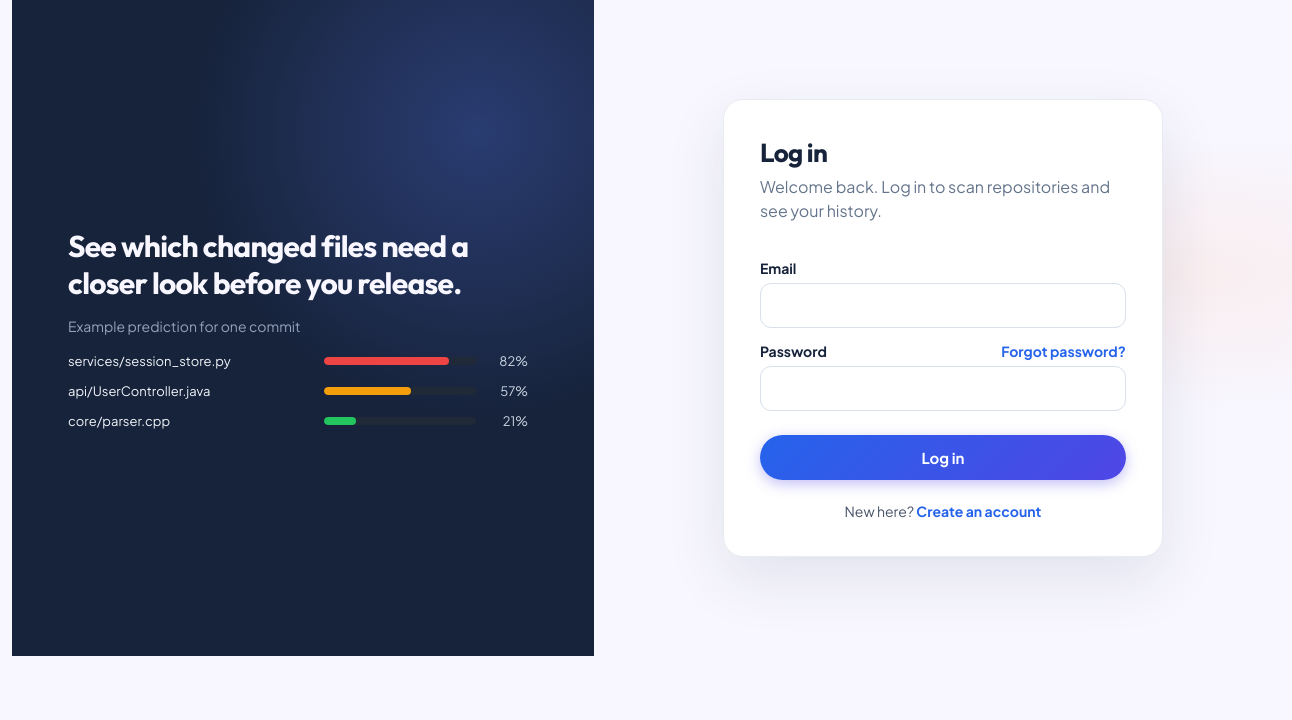
Test: authentication pages › logs in, stores the session, and opens the scanner
In the field labelled "Email": (943, 306) [760,283,1126,328], type "tester@example.com"
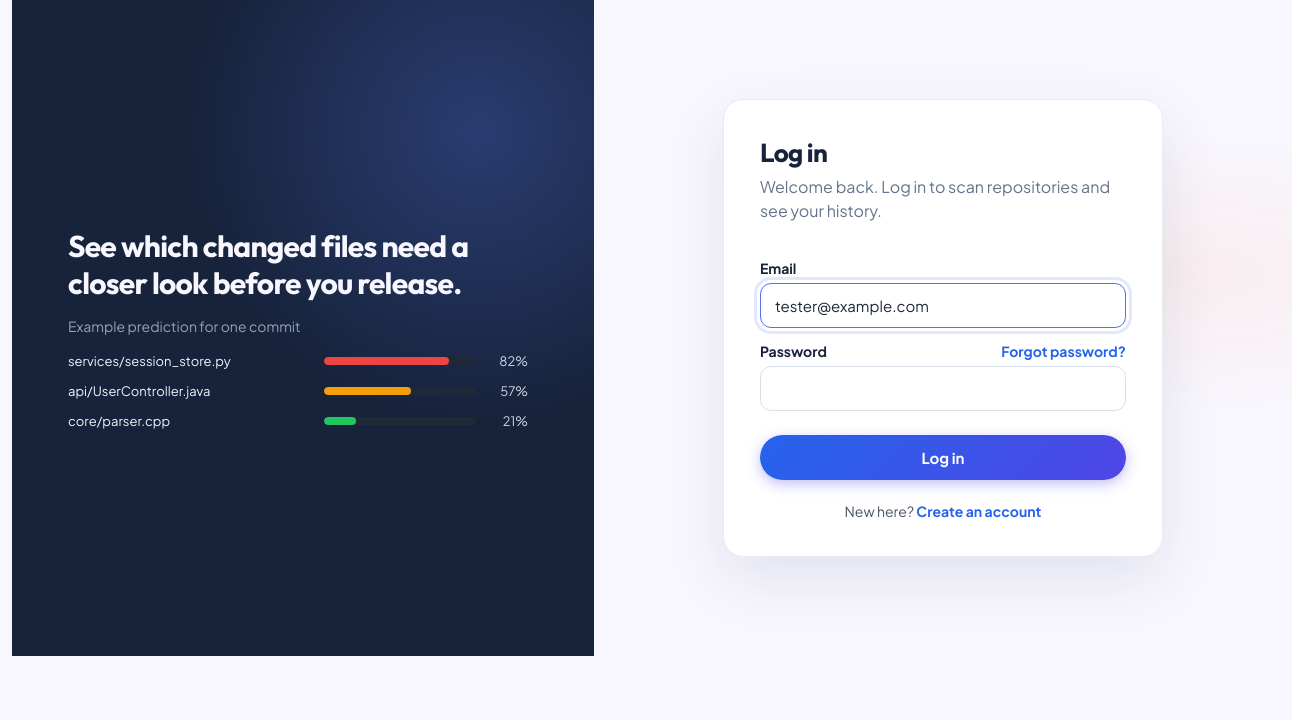
In the password field labelled "Password": (943, 388) [760,366,1126,411], type "Test-pass-123"
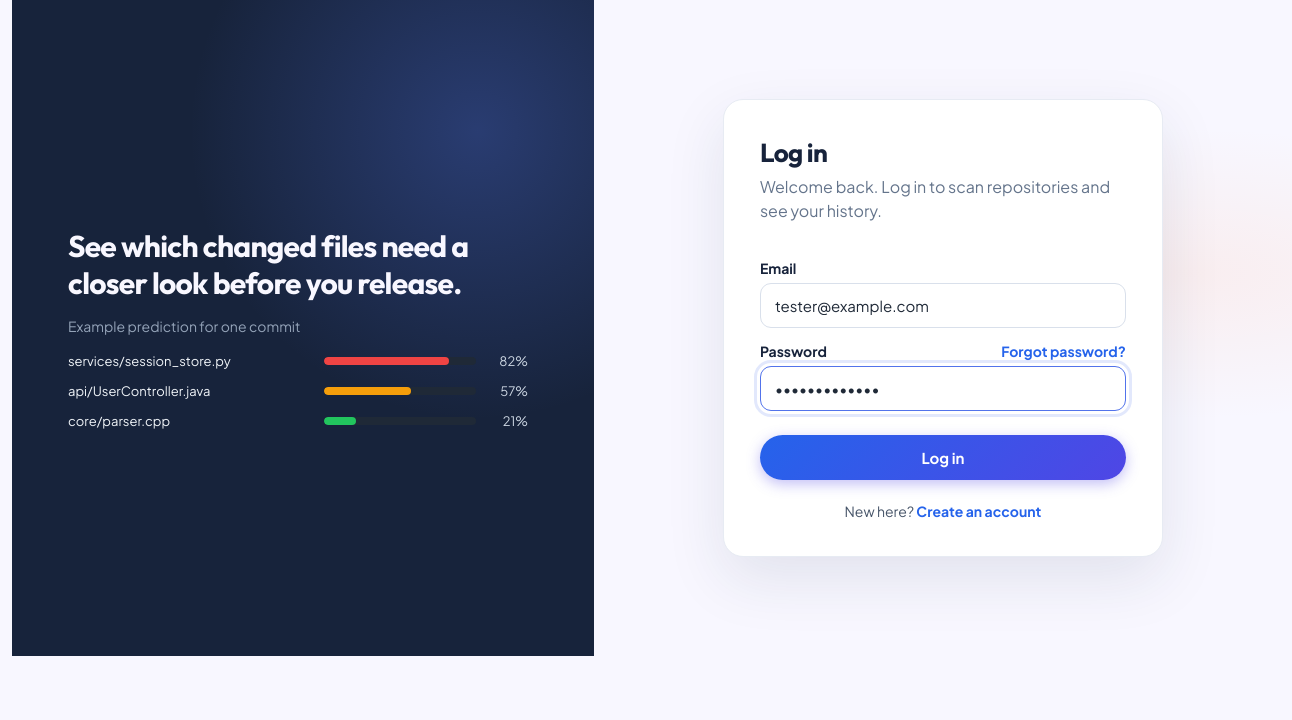
Click the button "Log in": click(943, 458) [760,435,1126,480]
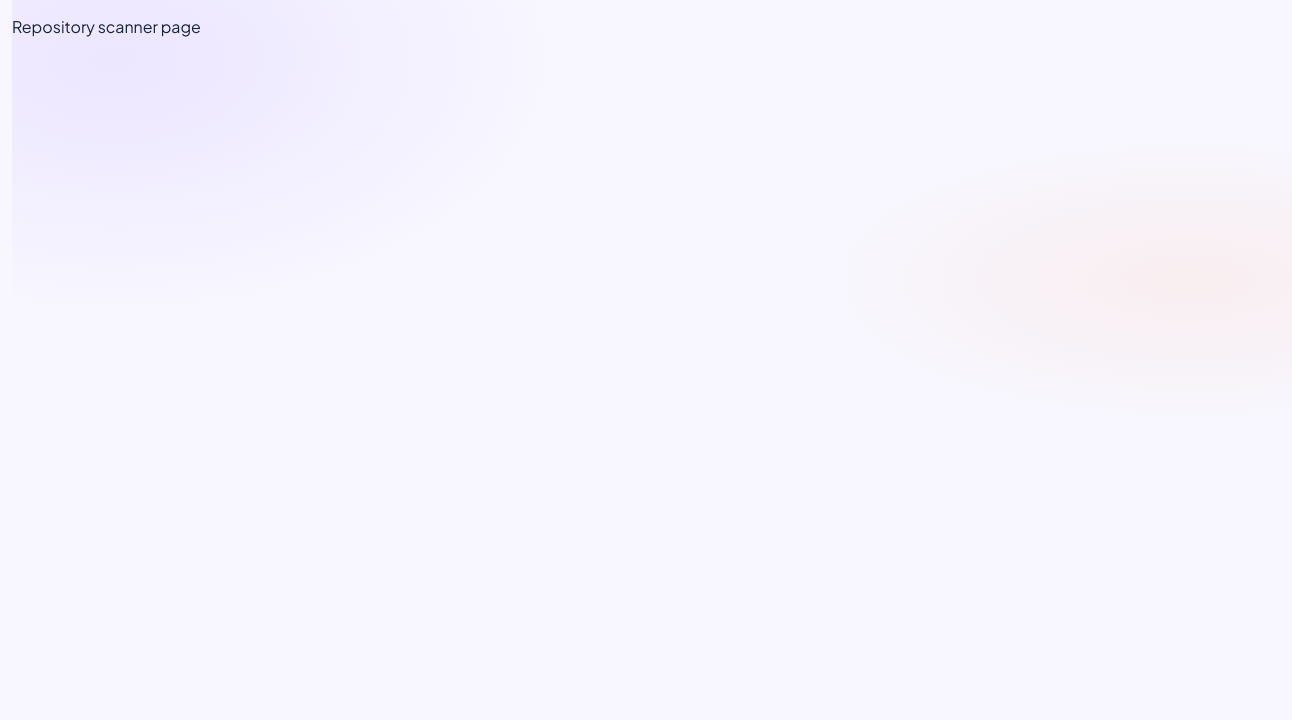
Now the text "Repository scanner page" is shown, box [12,16,201,37]
